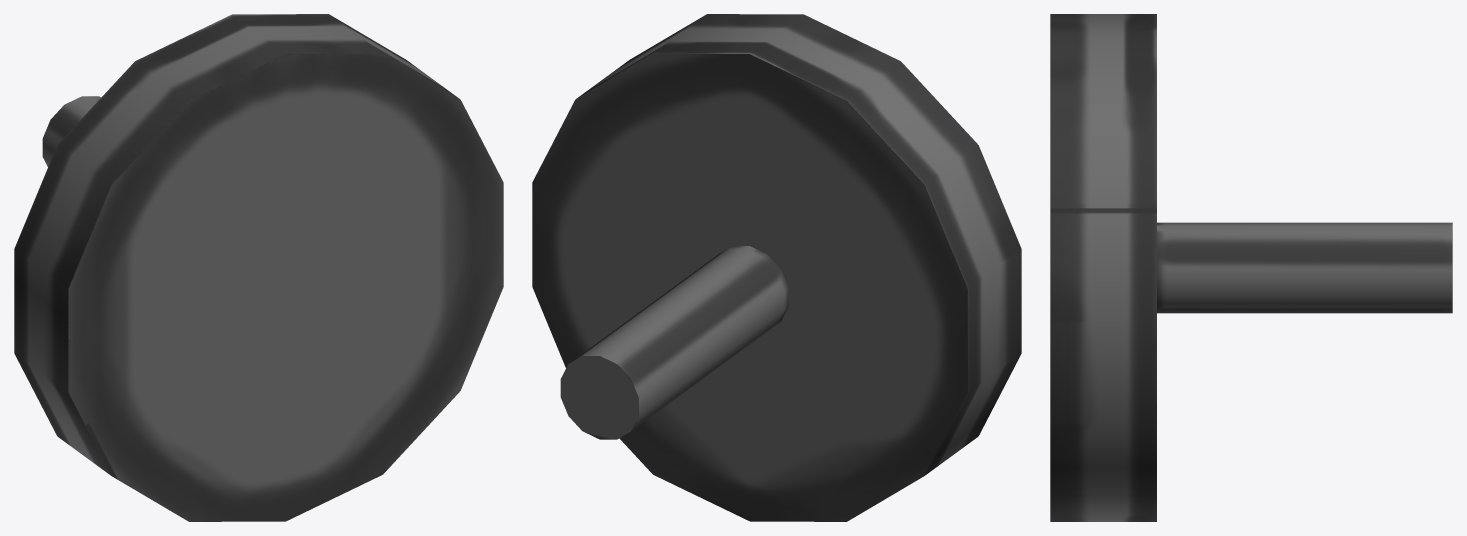
Rendered from Nail.glb.
3 views of the same model, side by side, from view 1: azimuth 30°, elevation 25°; view 2: azimuth 150°, elevation 25°; view 3: azimuth 270°, elevation 25° (orthographic).
Visible parts, largest first — view 1: Cylinder; view 2: Cylinder; view 3: Cylinder.
Boxes of the visible parts, <box> form: Cylinder: <box>14,14,503,521</box>; Cylinder: <box>532,14,1021,521</box>; Cylinder: <box>1050,14,1452,521</box>.
Bounding box in the file's own units: 0.2191 × 0.2247 × 0.1781.
1 material, 1 textured.
